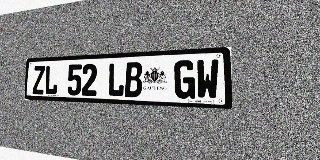2: (82, 63, 97, 96)
5: (67, 64, 82, 96)
B: (125, 62, 143, 97)
G: (174, 60, 195, 99)
L: (108, 62, 125, 97), (44, 65, 58, 95)
W: (196, 59, 219, 100)
Z: (32, 65, 45, 94)
